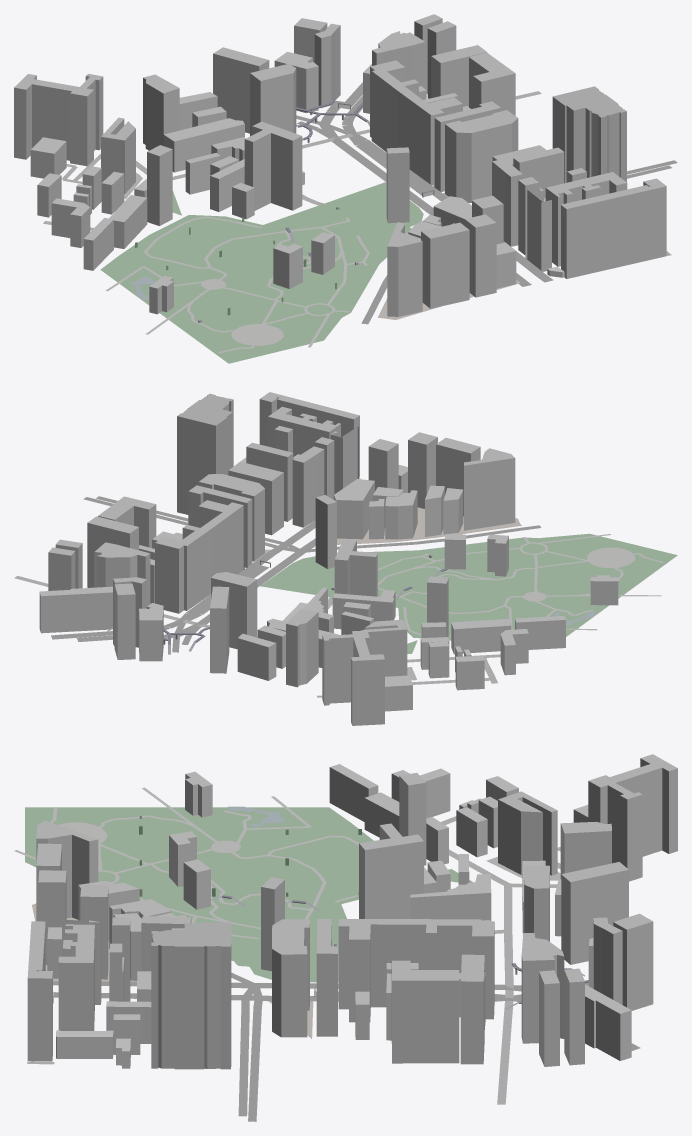
The picture shows the model from 3 angles, top to bottom: view 1: azimuth 30°, elevation 25°; view 2: azimuth 150°, elevation 25°; view 3: azimuth 270°, elevation 25°; orthographic projection. The views are drawn at different scales.
Bounding box in the file's own units: 646 × 112 × 545.
